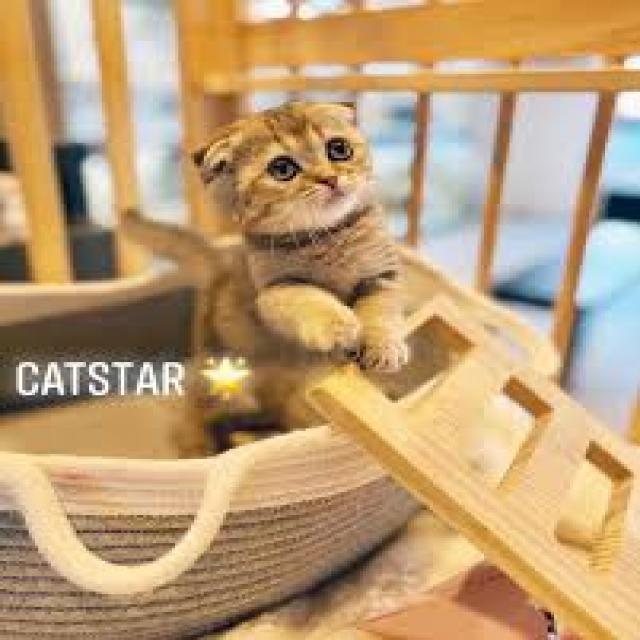cat-face: (124, 47, 436, 269)
